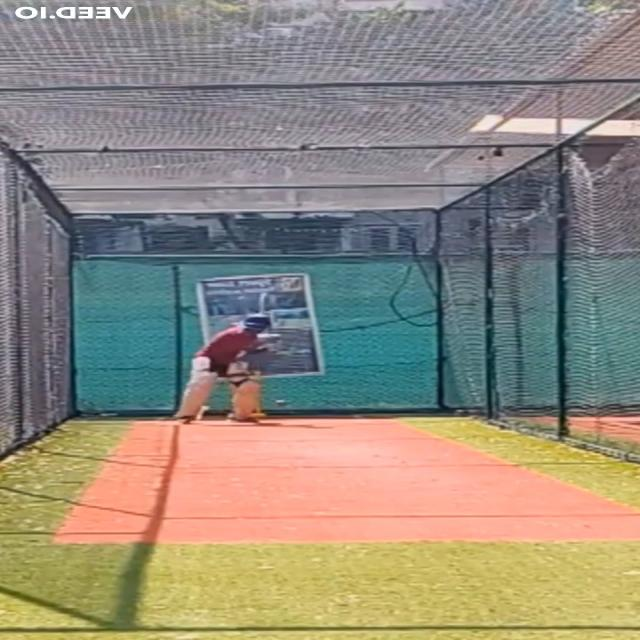ball: (272, 398, 289, 407)
